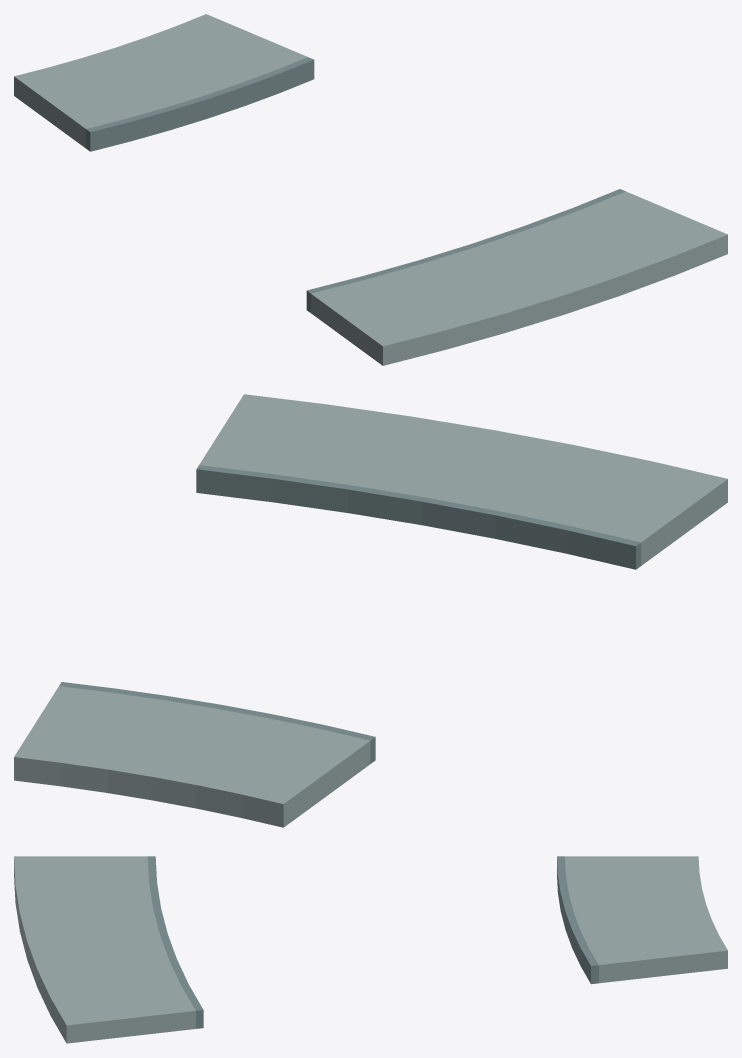
The model's file is RoadPlan_WalkCurve_2L_A15_R18.glb.
3 views of the same model, one above another, from view 1: azimuth 30°, elevation 25°; view 2: azimuth 150°, elevation 25°; view 3: azimuth 270°, elevation 25° (orthographic). The views are drawn at different scales.
Parts seen in each view (by area): view 1: RoadPlan_WalkCurve_2L_A15_R18_Paving_-1, RoadPlan_WalkCurve_2L_A15_R18_Paving_1, RoadPlan_WalkCurve_2L_A15_R18_Curb_1, RoadPlan_WalkCurve_2L_A15_R18_Curb_-1; view 2: RoadPlan_WalkCurve_2L_A15_R18_Paving_-1, RoadPlan_WalkCurve_2L_A15_R18_Paving_1, RoadPlan_WalkCurve_2L_A15_R18_Curb_-1, RoadPlan_WalkCurve_2L_A15_R18_Curb_1; view 3: RoadPlan_WalkCurve_2L_A15_R18_Paving_-1, RoadPlan_WalkCurve_2L_A15_R18_Paving_1, RoadPlan_WalkCurve_2L_A15_R18_Curb_1, RoadPlan_WalkCurve_2L_A15_R18_Curb_-1.
Part boxes in pixels (x1,y1,x2,y2): RoadPlan_WalkCurve_2L_A15_R18_Paving_-1: [311, 191, 727, 365]; RoadPlan_WalkCurve_2L_A15_R18_Paving_1: [14, 14, 307, 148]; RoadPlan_WalkCurve_2L_A15_R18_Curb_1: [86, 57, 314, 151]; RoadPlan_WalkCurve_2L_A15_R18_Curb_-1: [306, 189, 625, 312]; RoadPlan_WalkCurve_2L_A15_R18_Paving_-1: [199, 394, 727, 565]; RoadPlan_WalkCurve_2L_A15_R18_Paving_1: [14, 686, 370, 827]; RoadPlan_WalkCurve_2L_A15_R18_Curb_-1: [196, 465, 641, 569]; RoadPlan_WalkCurve_2L_A15_R18_Curb_1: [59, 682, 375, 763]; RoadPlan_WalkCurve_2L_A15_R18_Paving_-1: [14, 856, 195, 1043]; RoadPlan_WalkCurve_2L_A15_R18_Paving_1: [565, 856, 727, 983]; RoadPlan_WalkCurve_2L_A15_R18_Curb_1: [557, 856, 598, 984]; RoadPlan_WalkCurve_2L_A15_R18_Curb_-1: [147, 856, 203, 1028].
Size of the model in its own units: 5.98 by 0.3 by 10.68.
